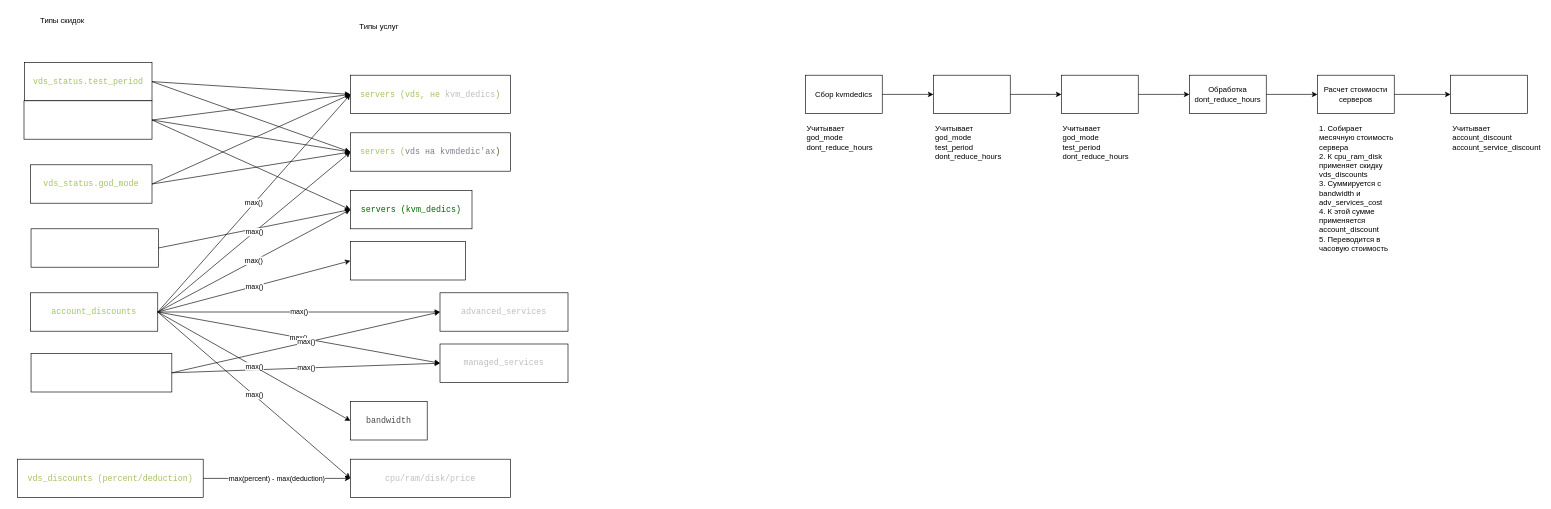
Some shapes in this 1551 by 509 pixel diagram are drawn without their labels. Here are the shapes that lost their labels. From the top down, the centre of each, then its label:
(x=971, y=94): Сбор обычных vds (не kvm)
(x=1099, y=94): Сбор vds на kvmdedic'ах
(x=1488, y=94): Сбор стоимости платных сервисов adv/managed
(x=87, y=119): server.dont_reduce_hours
(x=94, y=247): account_status.god_mode
(x=408, y=260): adv_services
(x=101, y=372): account_service_discounts
